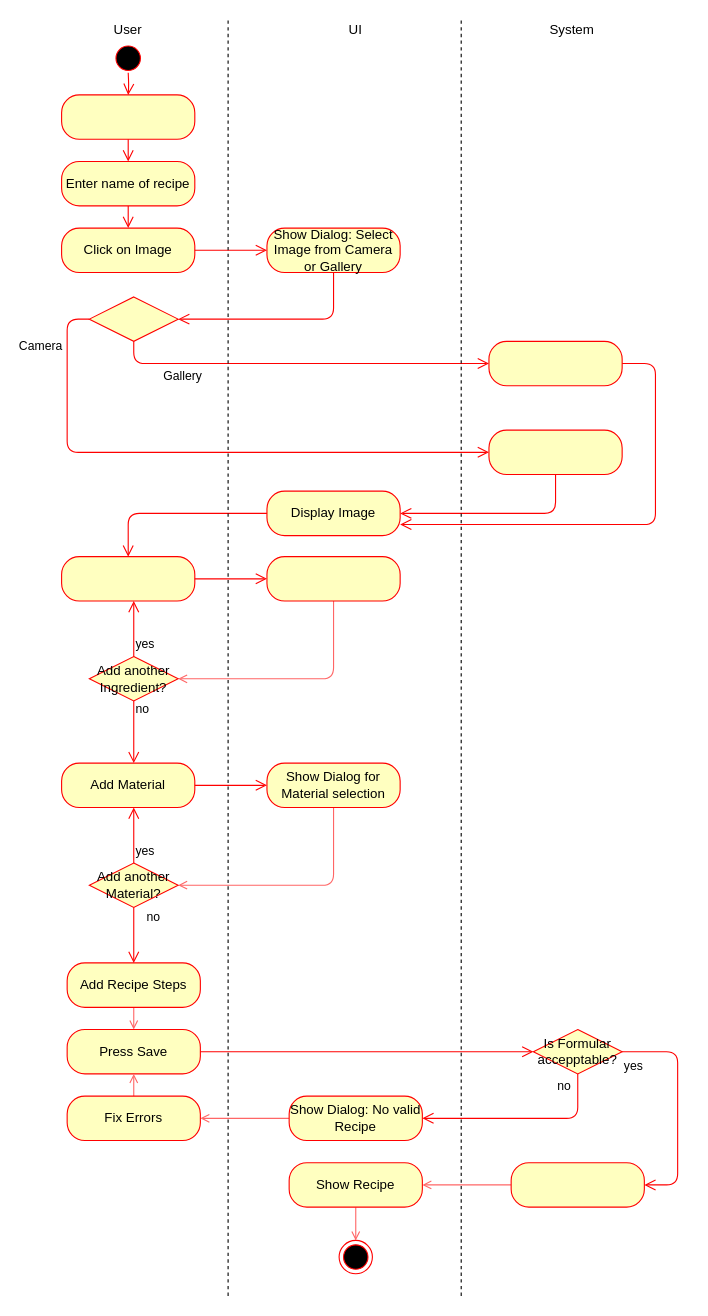
This 708x1316 diagram has some shape labels left out. The centre of each missing label's shape, as x and y in pixels:
"Add Ingredient" belongs at point 127,578.
"Create Recipe" belongs at point 127,116.
"Image Option" belongs at point 133,318.
"Open Camera" belongs at point 555,363.
"Open Gallery" belongs at point 555,452.
"Show Dialog for Ingredient selection" belongs at point 333,578.
"Store Recipe" belongs at point 577,1184.
